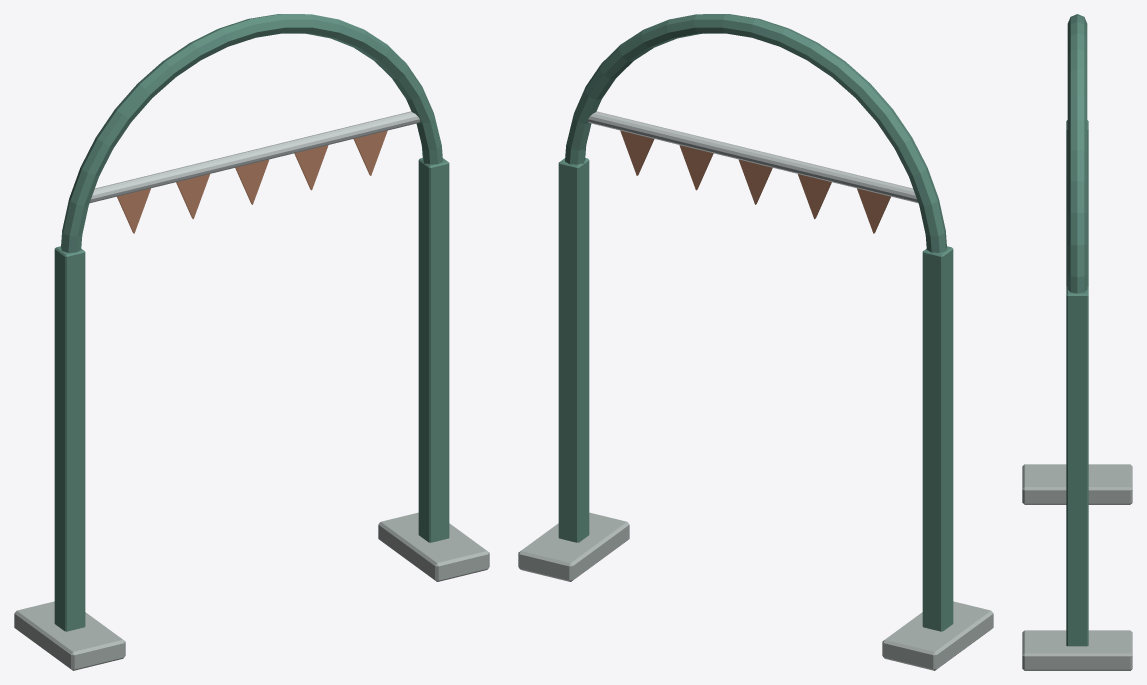
3 views of the same model, side by side, from view 1: azimuth 30°, elevation 25°; view 2: azimuth 150°, elevation 25°; view 3: azimuth 270°, elevation 25° (orthographic). The views are drawn at different scales.
Visible parts, largest first — view 1: carnival-pennant-arch-01; view 2: carnival-pennant-arch-01; view 3: carnival-pennant-arch-01.
Boxes of the visible parts, left/top/right/bottom form: carnival-pennant-arch-01: left=14, top=14, right=489, bottom=670; carnival-pennant-arch-01: left=518, top=14, right=993, bottom=670; carnival-pennant-arch-01: left=1022, top=14, right=1132, bottom=670.
Bounding box in the file's own units: 1.84 × 2.44 × 0.45.
